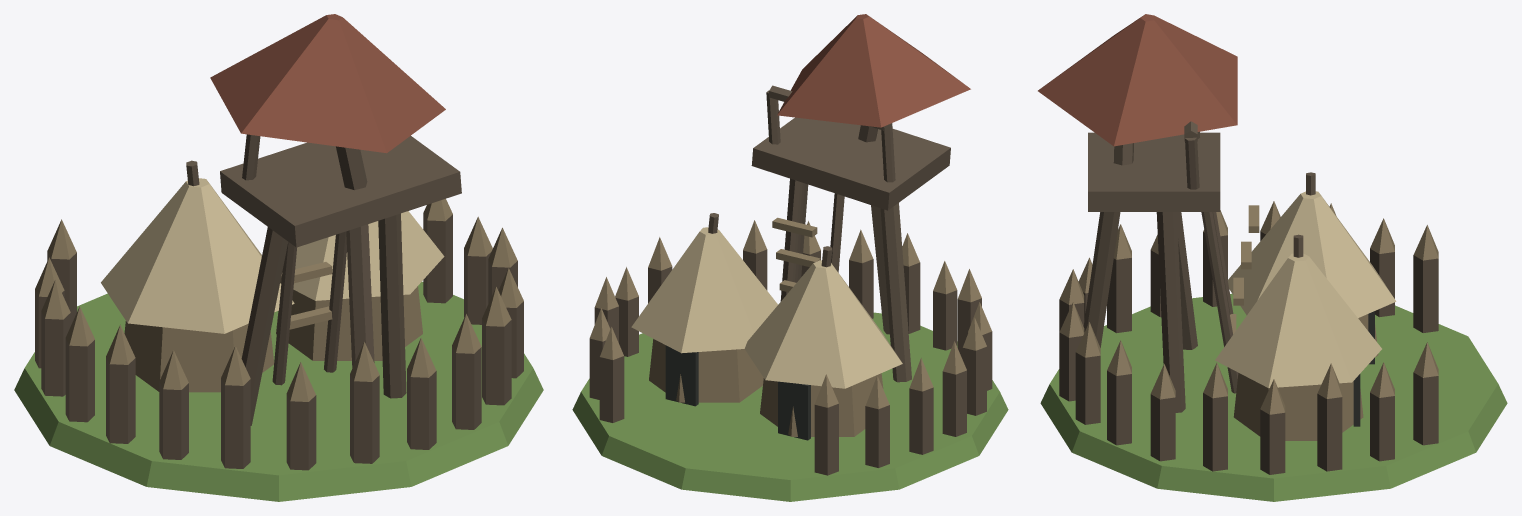
Rendered from Faction_GoblinCamp.fbx.
The picture shows the model from 3 angles, left to right: view 1: azimuth 30°, elevation 25°; view 2: azimuth 150°, elevation 25°; view 3: azimuth 270°, elevation 25°; orthographic projection. The views are drawn at different scales.
Visible parts, largest first — view 1: Faction_GoblinCamp; view 2: Faction_GoblinCamp; view 3: Faction_GoblinCamp.
Boxes of the visible parts, x1,y1,x2,y2 form: Faction_GoblinCamp: (14, 14, 543, 501); Faction_GoblinCamp: (572, 14, 1008, 501); Faction_GoblinCamp: (1038, 14, 1507, 501).
Size of the model in its own units: 1.52 by 1.36 by 1.53.
